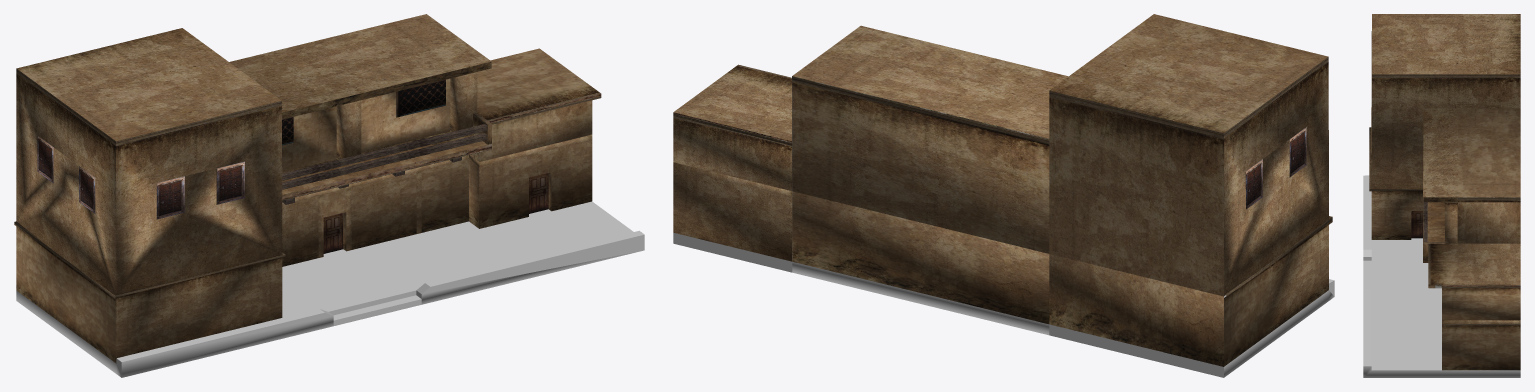
Rendered from BuildingN_Seperated.fbx.
The picture shows the model from 3 angles, left to right: view 1: azimuth 30°, elevation 25°; view 2: azimuth 150°, elevation 25°; view 3: azimuth 270°, elevation 25°; orthographic projection. The views are drawn at different scales.
Parts seen in each view (by area): view 1: BuildingN_Wall2, BuildingN_Wall1, BuildingN_Floor1, BuildingN_Roof3, BuildingN_Roof2, BuildingN_Balcony, BuildingN_Roof1, BuildingN_Window6, BuildingN_Window3, BuildingN_Window4, BuildingN_Door2, BuildingN_Door3 (+2 smaller); view 2: BuildingN_Wall2, BuildingN_Wall1, BuildingN_Roof3, BuildingN_Roof2, BuildingN_Floor1, BuildingN_Roof1, BuildingN_Window2, BuildingN_Window1; view 3: BuildingN_Wall2, BuildingN_Floor1, BuildingN_Roof2, BuildingN_Roof3, BuildingN_Wall1, BuildingN_Roof1, BuildingN_Balcony, BuildingN_Door1.
Boxes of the visible parts, x1,y1,x2,y2 form: BuildingN_Wall2: [16, 68, 592, 295]; BuildingN_Wall1: [14, 134, 592, 363]; BuildingN_Floor1: [16, 201, 644, 377]; BuildingN_Roof3: [16, 28, 281, 141]; BuildingN_Roof2: [229, 14, 491, 119]; BuildingN_Balcony: [282, 113, 491, 204]; BuildingN_Roof1: [477, 48, 601, 124]; BuildingN_Window6: [396, 79, 445, 117]; BuildingN_Window3: [156, 176, 184, 219]; BuildingN_Window4: [216, 161, 244, 204]; BuildingN_Door2: [323, 212, 346, 253]; BuildingN_Door3: [529, 172, 551, 213]; BuildingN_Wall2: [673, 57, 1328, 296]; BuildingN_Wall1: [673, 162, 1332, 366]; BuildingN_Roof3: [1049, 14, 1328, 133]; BuildingN_Roof2: [792, 25, 1068, 145]; BuildingN_Floor1: [673, 232, 1334, 377]; BuildingN_Roof1: [673, 64, 792, 145]; BuildingN_Window2: [1289, 127, 1306, 177]; BuildingN_Window1: [1245, 159, 1262, 209]; BuildingN_Wall2: [1371, 31, 1520, 320]; BuildingN_Floor1: [1363, 175, 1520, 377]; BuildingN_Roof2: [1423, 108, 1520, 202]; BuildingN_Roof3: [1372, 14, 1520, 74]; BuildingN_Wall1: [1369, 127, 1520, 370]; BuildingN_Roof1: [1428, 243, 1520, 288]; BuildingN_Balcony: [1423, 155, 1444, 262]; BuildingN_Door1: [1411, 211, 1422, 238].
Bounding box in the file's own units: 3188 × 1348 × 1107.
